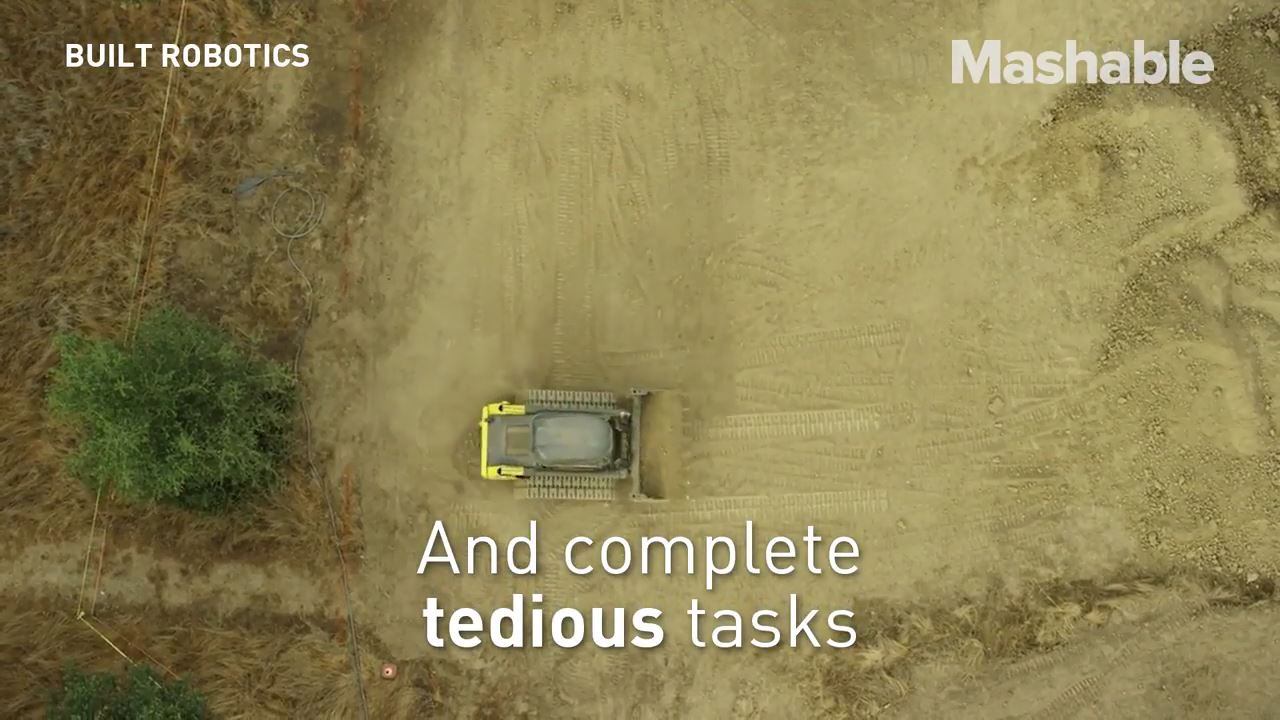con_eq: (476, 374, 696, 505)
